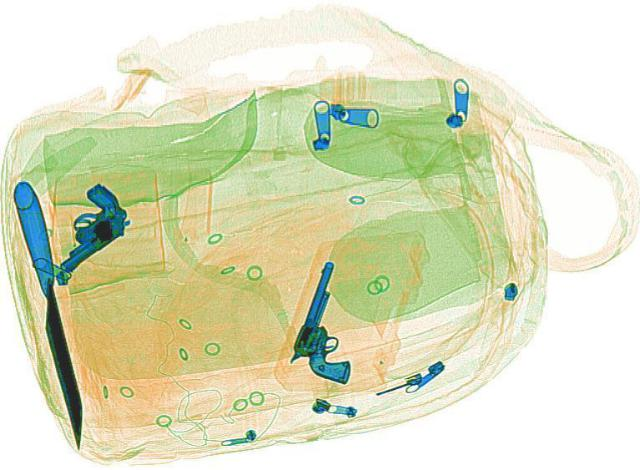Gun: (278, 258, 389, 383), (13, 180, 150, 274)
Knife: (9, 179, 91, 447)
